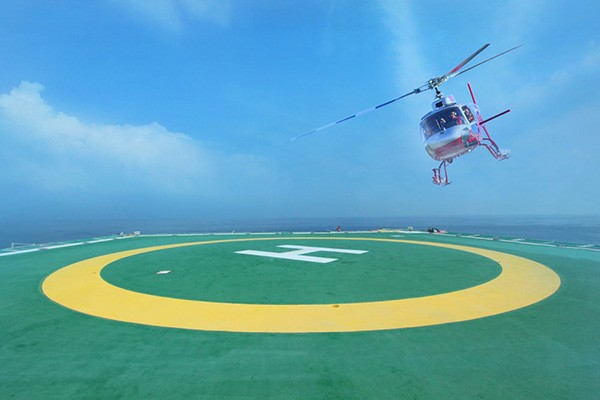Apron: (42, 238, 562, 336)
